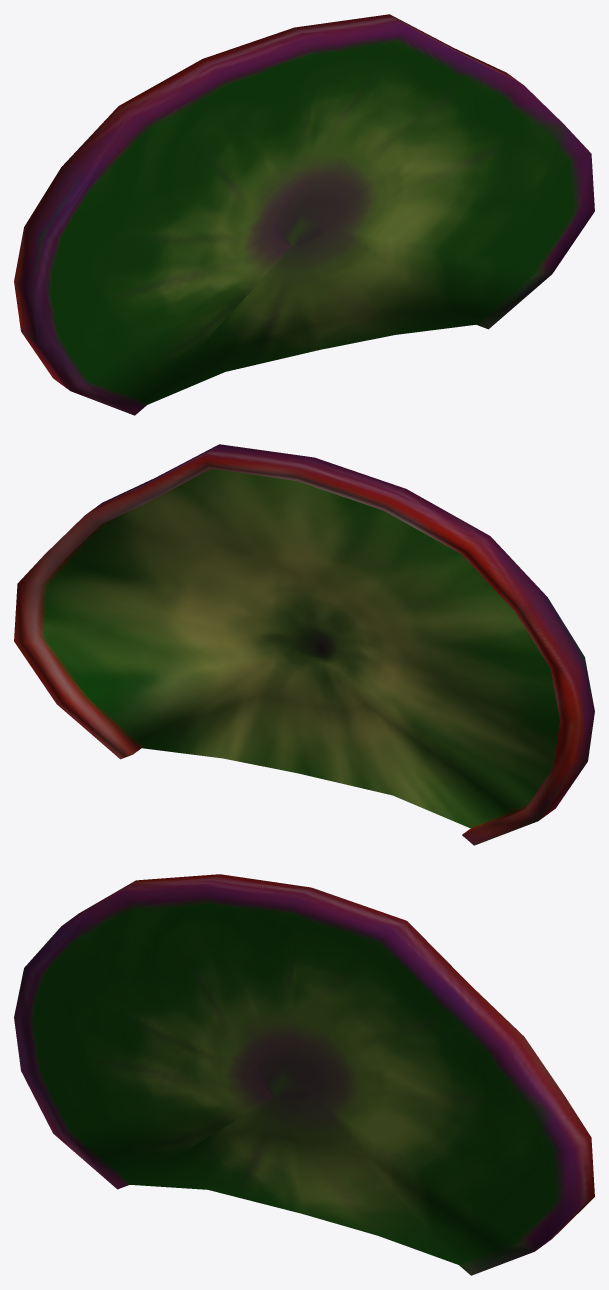
File: lily_pad_capped_hole.FBX
3 views of the same model, one above another, from view 1: azimuth 30°, elevation 25°; view 2: azimuth 150°, elevation 25°; view 3: azimuth 330°, elevation 25° (orthographic).
Parts seen in each view (by area): view 1: lilly_01; view 2: lilly_01; view 3: lilly_01.
Boxes of the visible parts, x1=… form: lilly_01: x1=14, y1=14, x2=594, y2=415; lilly_01: x1=14, y1=444, x2=594, y2=845; lilly_01: x1=14, y1=874, x2=594, y2=1275.
Bounding box in the file's own units: 7.01 × 3.95 × 0.3748.
